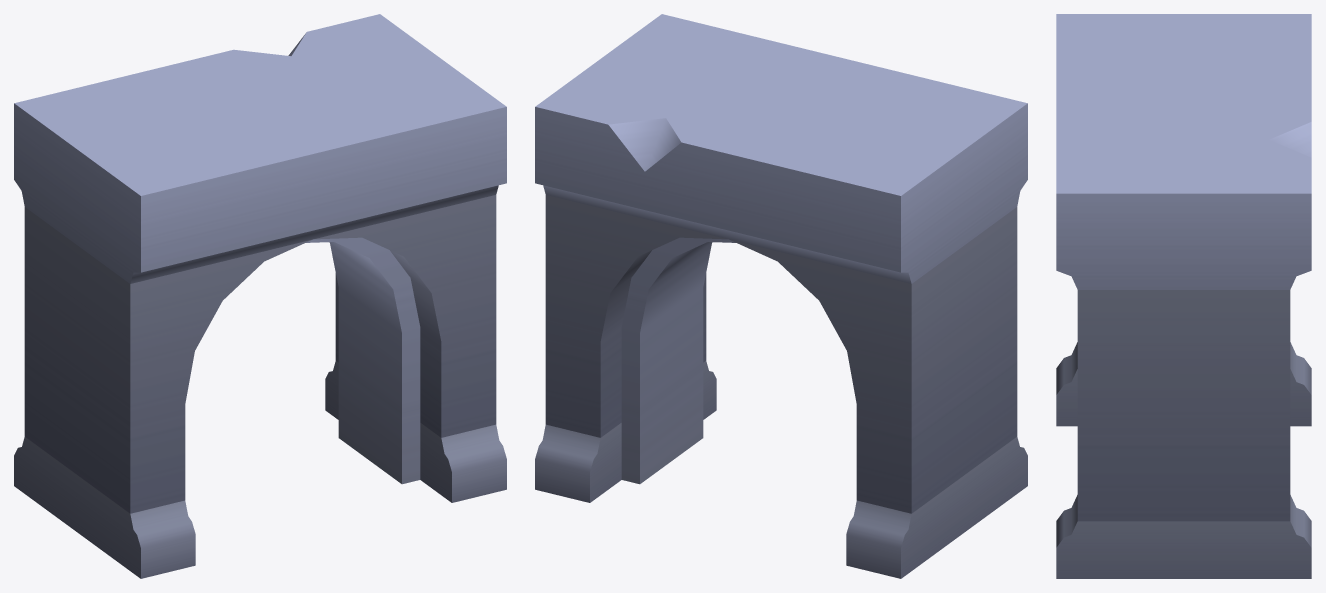
File: Gate.glb
3 views of the same model, side by side, from view 1: azimuth 30°, elevation 25°; view 2: azimuth 150°, elevation 25°; view 3: azimuth 270°, elevation 25° (orthographic).
Parts seen in each view (by area): view 1: wall_gate; view 2: wall_gate; view 3: wall_gate.
Part boxes in pixels (left/top/right/bottom): wall_gate: left=14, top=14, right=506, bottom=578; wall_gate: left=535, top=14, right=1027, bottom=578; wall_gate: left=1056, top=14, right=1311, bottom=578.
Bounding box in the file's own units: 1 × 1 × 0.6.
1 material, 1 textured.
